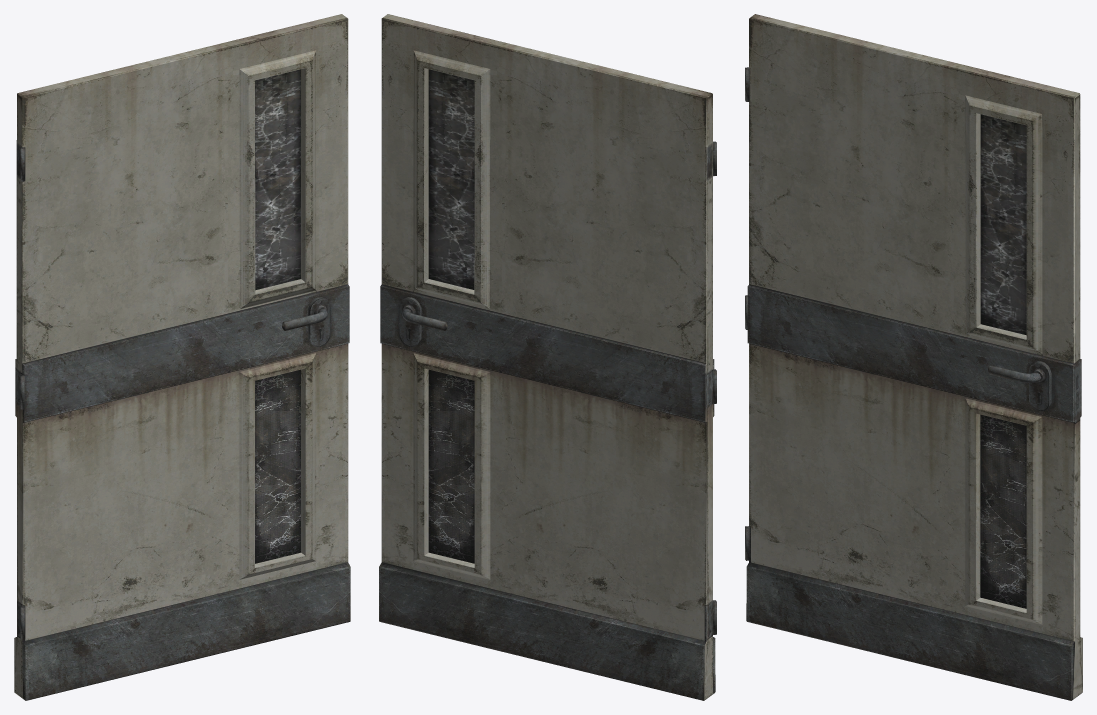
File: swingdoor_theta_damaged.dae
The picture shows the model from 3 angles, left to right: view 1: azimuth 30°, elevation 25°; view 2: azimuth 150°, elevation 25°; view 3: azimuth 330°, elevation 25°; orthographic projection.
Parts seen in each view (by area): view 1: door; view 2: door; view 3: door, handle.
Part boxes in pixels (x1,y1,x2,y2): door: [14, 14, 350, 700]; door: [379, 14, 716, 700]; door: [745, 14, 1082, 700]; handle: [988, 365, 1041, 383].
Size of the model in its own units: 1.35 by 2.36 by 0.2109.
